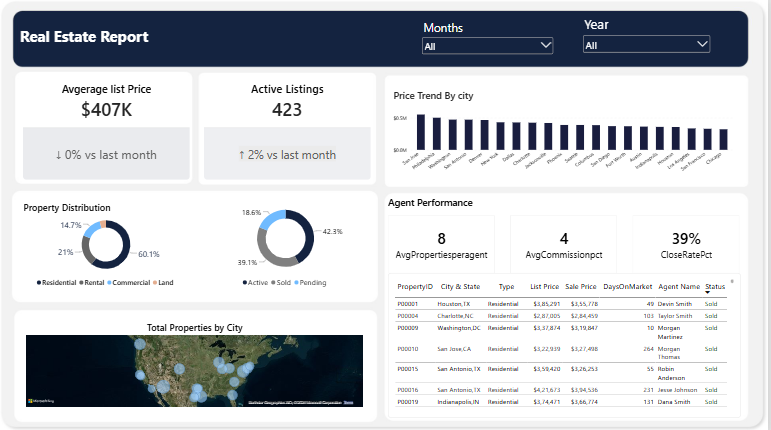

This screenshot's page, from the dashboard's own definition file:
{"tool":"powerbi","page":{"name":"Page 1","canvas":[1920,1080],"ordinal":0},"visuals":[{"type":"textbox","box":[50,65,337.5,65],"z":0},{"type":"slicer","fields":{"Values":["Date.Year"]},"box":[1452.5,37.5,327.5,117.5],"z":1000},{"type":"slicer","fields":{"Values":["Date.MonthName"]},"box":[1050,47.5,337.5,100],"z":2000},{"type":"cardVisual","fields":{"Data":["_Measures.AvglistPrice"]},"box":[58,187.5,417.5,262.5],"z":3000},{"type":"cardVisual","fields":{"Data":["_Measures.Active Listings"]},"box":[509.8,187.9,417.5,262.5],"z":4000},{"type":"donutChart","title":"Property Distribution","fields":{"Category":["real_estate.PropertyType"],"Y":["_Measures.Total Properties"]},"box":[43.2,490.3,445,248.4],"z":5000},{"type":"donutChart","title":"Property Distribution","fields":{"Category":["real_estate.Status"],"Y":["_Measures.Total Properties"]},"box":[499,490.3,427.7,248.4],"z":6000},{"type":"map","fields":{"Category":["real_estate.City"],"Size":["_Measures.Total Properties"]},"box":[49.7,790.6,874,243],"z":7000},{"type":"clusteredColumnChart","title":"Price Trend By city","fields":{"Category":["real_estate.City"],"Y":["_Measures.AvglistPrice"]},"box":[967.7,207.4,883.4,244.1],"z":8000},{"type":"cardVisual","title":"Agent Performance","fields":{"Data":["_Measures.AvgPropertiesperagent","_Measures.AvgCommissionpct","_Measures.CloseRatePct"]},"box":[970,490,880,193.3],"z":9000},{"type":"tableEx","fields":{"Values":["real_estate.PropertyID","real_estate.City & State","real_estate.PropertyType","real_estate.ListPrice","real_estate.SalePrice","real_estate.DaysOnMarket.Variation.Date Hierarchy.Year","real_estate.AgentName","real_estate.Status"]},"box":[970,682.5,881.7,361.7],"z":10000}]}

Visuals, with their boxes in screenshot pixels (x1, y1, x2, y2), scaled from the page's 1920x1080 canvas onto the 771x430 screenshot:
textbox: left=20, top=26, right=156, bottom=52
slicer - Date.Year: left=583, top=15, right=715, bottom=62
slicer - Date.MonthName: left=422, top=19, right=557, bottom=59
cardVisual - _Measures.AvglistPrice: left=23, top=75, right=191, bottom=179
cardVisual - _Measures.Active Listings: left=205, top=75, right=372, bottom=179
"Property Distribution" donutChart: left=17, top=195, right=196, bottom=294
"Property Distribution" donutChart: left=200, top=195, right=372, bottom=294
map - real_estate.City x _Measures.Total Properties: left=20, top=315, right=371, bottom=412
"Price Trend By city" clusteredColumnChart: left=389, top=83, right=743, bottom=180
"Agent Performance" cardVisual: left=390, top=195, right=743, bottom=272
tableEx - real_estate.PropertyID x real_estate.City & State: left=390, top=272, right=744, bottom=416
